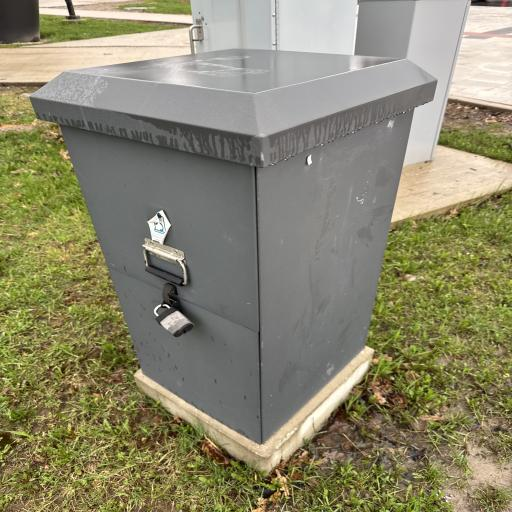Electrical Box: (28, 48, 440, 444)
